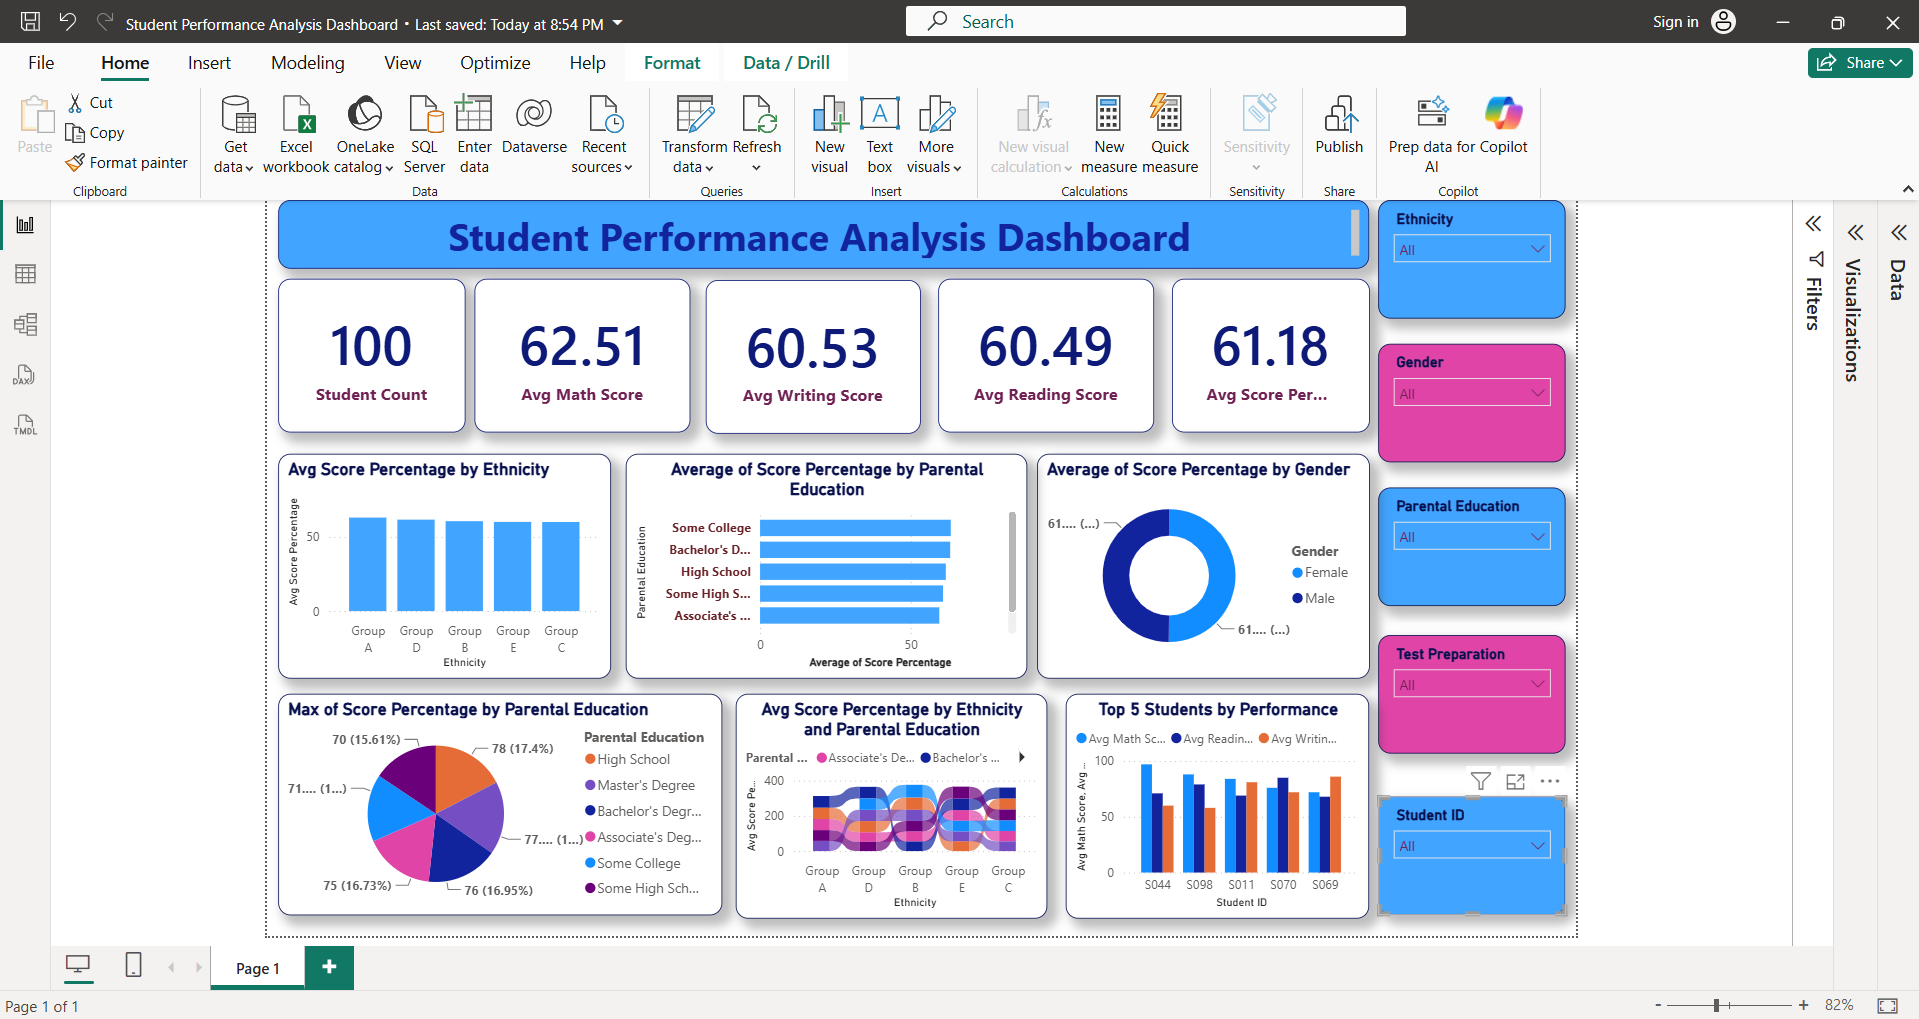

The page's visual inventory and layout, read from the dashboard file:
{"tool":"powerbi","page":{"name":"Page 1","canvas":[1280,720],"ordinal":0},"visuals":[{"type":"textbox","box":[11,0,1067.5,67.3],"z":0},{"type":"cardVisual","fields":{"Data":["Count(Sheet1.Student ID)"]},"box":[11,77,183.4,150.4],"z":1000},{"type":"cardVisual","fields":{"Data":["Avg(Sheet1.Math Score)"]},"box":[203,77,211.6,150.4],"z":1001},{"type":"cardVisual","fields":{"Data":["Avg(Sheet1.Writing Score)"]},"box":[429.2,78.3,210.3,150.4],"z":1002},{"type":"cardVisual","fields":{"Data":["Avg(Sheet1.Reading Score)"]},"box":[656.7,77,211.6,150.4],"z":1003},{"type":"cardVisual","fields":{"Data":["Avg(Sheet1.Score Percentage)"]},"box":[885.3,77,193.2,150.4],"z":1004},{"type":"slicer","fields":{"Values":["Sheet1.Ethnicity"]},"box":[1087.1,14.7,183.4,116],"z":1005},{"type":"slicer","fields":{"Values":["Sheet1.Parental Education"]},"box":[1087.1,300.8,183.4,116.2],"z":1007},{"type":"columnChart","fields":{"Category":["Sheet1.Ethnicity"],"Y":["Avg(Sheet1.Score Percentage)"]},"box":[11,248.2,325.3,220.1],"z":1008},{"type":"slicer","fields":{"Values":["Sheet1.Gender"]},"box":[1087.1,154.1,183.4,116.2],"z":1009},{"type":"donutChart","fields":{"Category":["Sheet1.Gender"],"Y":["Avg(Sheet1.Score Percentage)"]},"box":[753.3,248.2,325.3,220.1],"z":1010},{"type":"clusteredBarChart","fields":{"Category":["Sheet1.Parental Education"],"Y":["Avg(Sheet1.Score Percentage)"]},"box":[351,248.2,392.5,220.1],"z":1011},{"type":"pieChart","fields":{"Y":["Max(Sheet1.Score Percentage)"],"Category":["Sheet1.Parental Education"]},"box":[11,483,434.1,216.4],"z":1012},{"type":"ribbonChart","fields":{"Category":["Sheet1.Ethnicity"],"Y":["Avg(Sheet1.Score Percentage)"],"Series":["Sheet1.Parental Education"]},"box":[458.6,483,304.5,220.1],"z":1013},{"type":"slicer","fields":{"Values":["Sheet1.Test Preparation"]},"box":[1087.1,441.4,183.4,116.2],"z":1014},{"type":"clusteredColumnChart","title":"Top 5 Students by Performance","fields":{"Y":["Avg(Sheet1.Math Score)","Avg(Sheet1.Reading Score)","Avg(Sheet1.Writing Score)"],"Category":["Sheet1.Student ID"]},"box":[781.4,483,297.1,220.1],"z":1015},{"type":"slicer","fields":{"Values":["Sheet1.Student ID"]},"box":[1087.1,587,183.4,116.2],"z":1016}]}

Visuals, with their boxes on the page's 1280x720 design canvas (x1, y1, x2, y2). These are canvas units, not pixel positions in the 1919x1019 screenshot, which may show the page scaled, cropped or inside an application window:
textbox: 11/0/1078/67
cardVisual - Count(Sheet1.Student ID): 11/77/194/227
cardVisual - Avg(Sheet1.Math Score): 203/77/415/227
cardVisual - Avg(Sheet1.Writing Score): 429/78/640/229
cardVisual - Avg(Sheet1.Reading Score): 657/77/868/227
cardVisual - Avg(Sheet1.Score Percentage): 885/77/1078/227
slicer - Sheet1.Ethnicity: 1087/15/1270/131
slicer - Sheet1.Parental Education: 1087/301/1270/417
columnChart - Sheet1.Ethnicity x Avg(Sheet1.Score Percentage): 11/248/336/468
slicer - Sheet1.Gender: 1087/154/1270/270
donutChart - Sheet1.Gender x Avg(Sheet1.Score Percentage): 753/248/1079/468
clusteredBarChart - Sheet1.Parental Education x Avg(Sheet1.Score Percentage): 351/248/744/468
pieChart - Max(Sheet1.Score Percentage) x Sheet1.Parental Education: 11/483/445/699
ribbonChart - Sheet1.Ethnicity x Avg(Sheet1.Score Percentage): 459/483/763/703
slicer - Sheet1.Test Preparation: 1087/441/1270/558
"Top 5 Students by Performance" clusteredColumnChart: 781/483/1078/703
slicer - Sheet1.Student ID: 1087/587/1270/703
